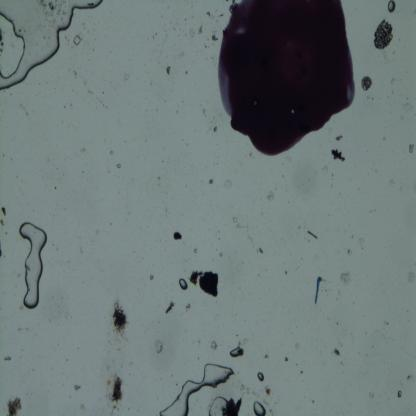Air bubble: (0, 0, 101, 90), (159, 363, 233, 414), (18, 220, 45, 312), (0, 9, 26, 79), (207, 396, 229, 416), (253, 398, 266, 416), (230, 345, 241, 358), (386, 0, 396, 13), (178, 278, 188, 290), (257, 370, 265, 381)
Background material: (107, 297, 130, 335), (373, 16, 396, 51), (108, 369, 126, 406), (232, 380, 258, 397), (225, 395, 245, 415), (5, 394, 24, 414), (40, 0, 62, 16), (337, 266, 352, 287), (329, 146, 345, 164), (359, 75, 374, 93), (188, 270, 203, 286), (398, 98, 412, 113), (328, 342, 342, 357), (154, 338, 165, 356), (262, 190, 276, 204), (170, 228, 184, 242), (307, 227, 321, 241), (406, 268, 416, 284), (69, 379, 81, 391), (0, 28, 5, 56), (0, 353, 14, 362), (401, 371, 412, 382), (164, 303, 174, 315), (333, 132, 346, 141), (119, 71, 130, 81), (209, 340, 218, 352), (381, 315, 390, 327), (180, 66, 190, 76), (86, 86, 96, 96), (233, 216, 240, 230), (164, 63, 172, 75), (408, 142, 415, 154), (0, 206, 7, 218), (198, 22, 204, 36), (210, 33, 216, 47), (392, 76, 398, 89), (207, 175, 214, 186), (79, 406, 88, 414), (114, 162, 122, 171), (254, 245, 264, 252), (212, 124, 218, 135), (0, 216, 5, 229), (151, 31, 159, 39), (184, 304, 192, 312), (72, 68, 78, 78), (266, 387, 272, 397), (396, 388, 402, 398), (346, 249, 353, 257), (284, 354, 290, 363), (178, 50, 184, 58), (109, 148, 114, 156), (0, 246, 3, 258), (150, 275, 155, 281), (53, 184, 57, 191), (260, 356, 269, 359), (194, 247, 198, 253), (300, 371, 304, 376), (81, 169, 85, 174), (18, 28, 22, 32), (312, 397, 314, 404), (102, 90, 105, 94), (285, 272, 288, 274)
Cotton: (314, 275, 322, 304)
Fragment: (200, 271, 220, 299)
Pen: (218, 1, 358, 155)
